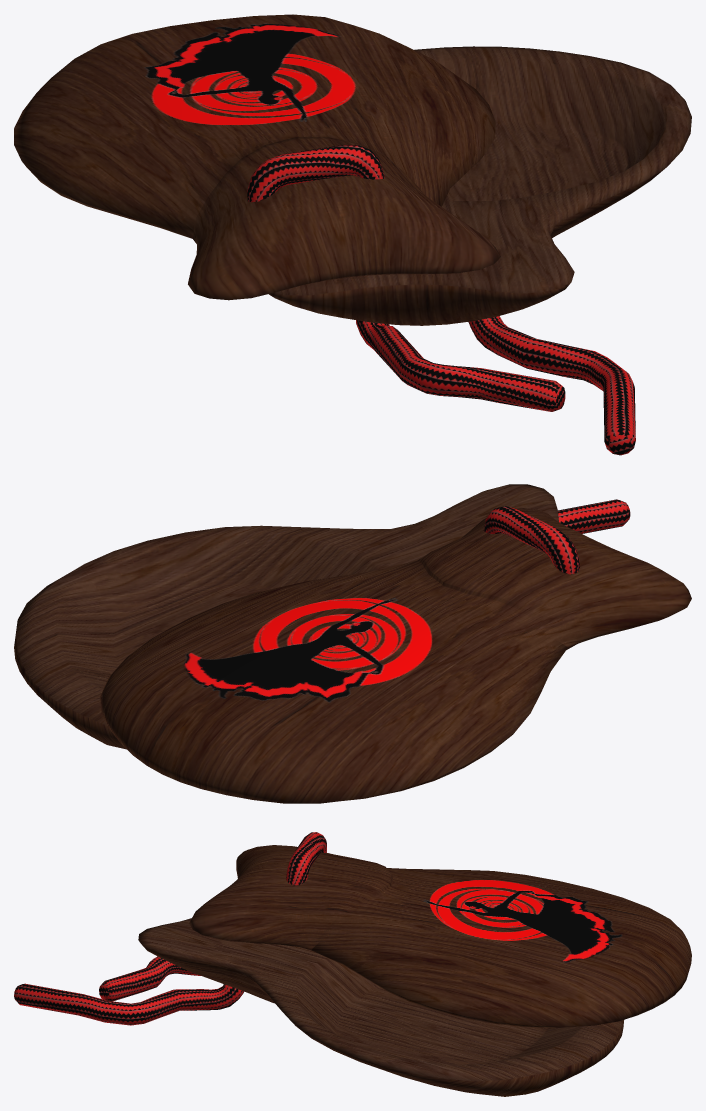
The model's file is Castanuela1.fbx.
The picture shows the model from 3 angles, top to bottom: view 1: azimuth 30°, elevation 25°; view 2: azimuth 150°, elevation 25°; view 3: azimuth 270°, elevation 25°; orthographic projection. The views are drawn at different scales.
Visible parts, largest first — view 1: castanuelasoga2; view 2: castanuelasoga2; view 3: castanuelasoga2.
Boxes of the visible parts, <box> form: castanuelasoga2: <box>14,14,691,455</box>; castanuelasoga2: <box>14,484,691,803</box>; castanuelasoga2: <box>14,832,691,1096</box>.
Size of the model in its own units: 8.82 by 2.56 by 12.24.
